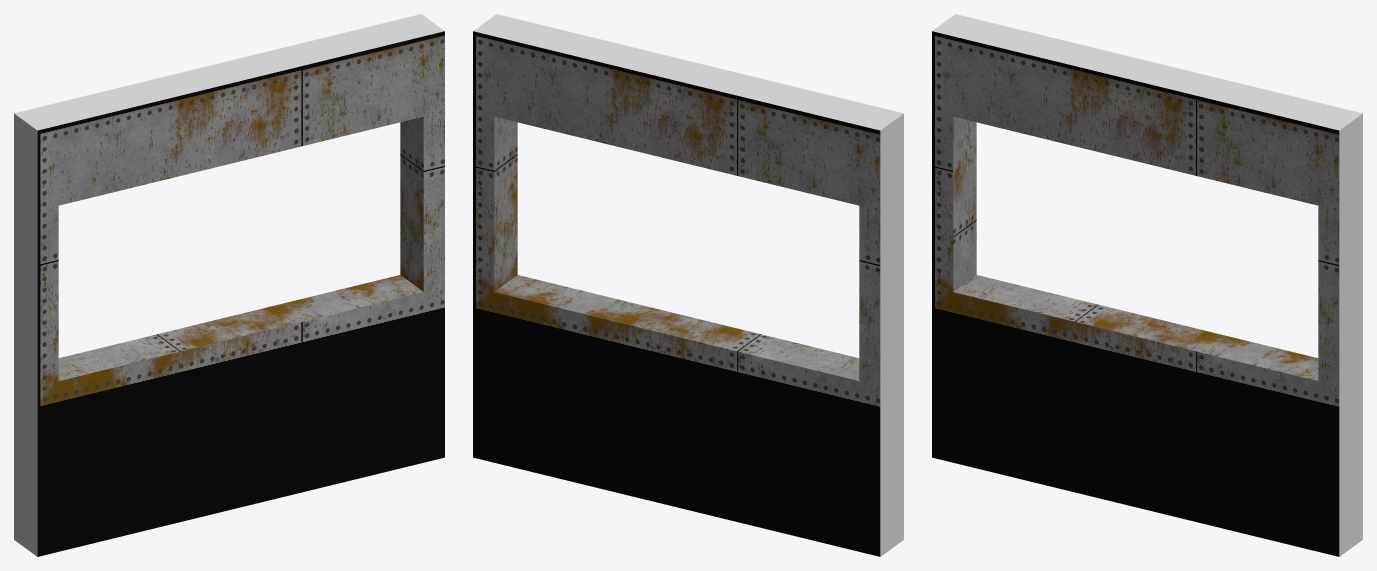
Rendered from Walls2window.fbx.
3 renders of one model, left to right at view 1: azimuth 30°, elevation 25°; view 2: azimuth 150°, elevation 25°; view 3: azimuth 330°, elevation 25°, orthographic.
Visible parts, largest first — view 1: WallStraitWindowApplied; view 2: WallStraitWindowApplied; view 3: WallStraitWindowApplied.
Part boxes in pixels (x1=…): WallStraitWindowApplied: x1=14, y1=14, x2=444, y2=556; WallStraitWindowApplied: x1=473, y1=14, x2=903, y2=556; WallStraitWindowApplied: x1=932, y1=14, x2=1362, y2=556.
Size of the model in its own units: 200 by 200 by 20.
